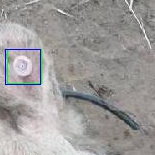text: (7, 49, 41, 83)
